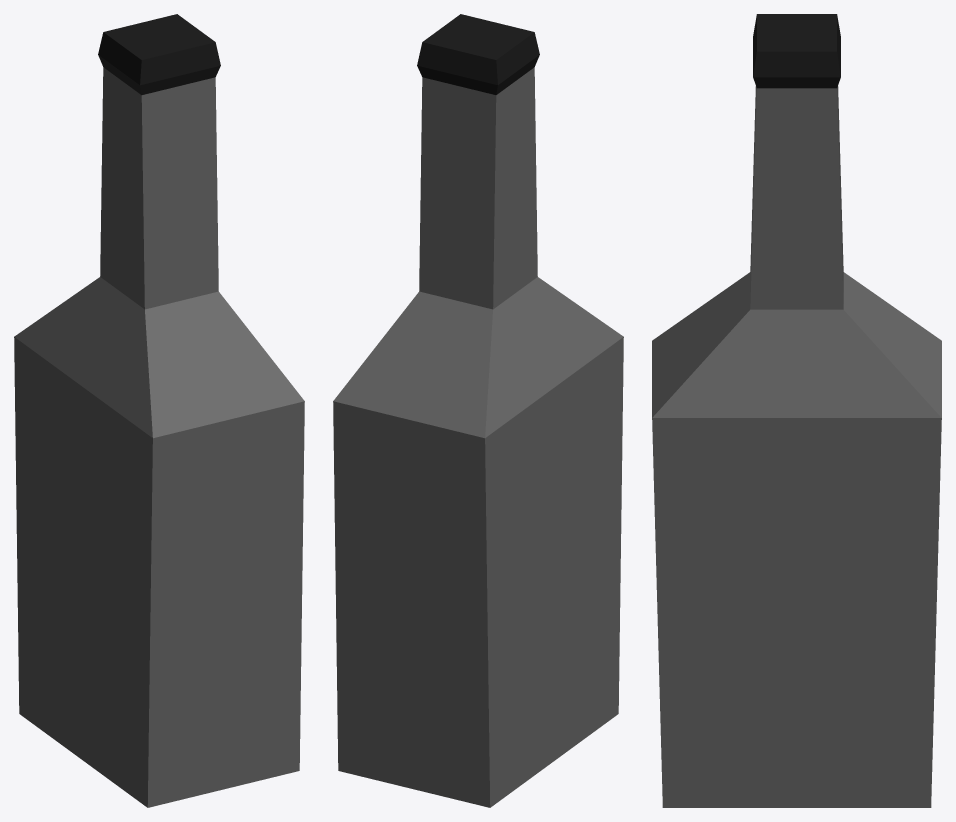
File: alcohol_B.FBX
3 renders of one model, left to right at view 1: azimuth 30°, elevation 25°; view 2: azimuth 150°, elevation 25°; view 3: azimuth 270°, elevation 25°, orthographic. The views are drawn at different scales.
Visible parts, largest first — view 1: alcohol_B; view 2: alcohol_B; view 3: alcohol_B.
Boxes of the visible parts, x1=… form: alcohol_B: x1=14, y1=14, x2=304, y2=807; alcohol_B: x1=333, y1=14, x2=623, y2=807; alcohol_B: x1=652, y1=14, x2=941, y2=807.
Size of the model in its own units: 4.32 by 19.18 by 6.84.
